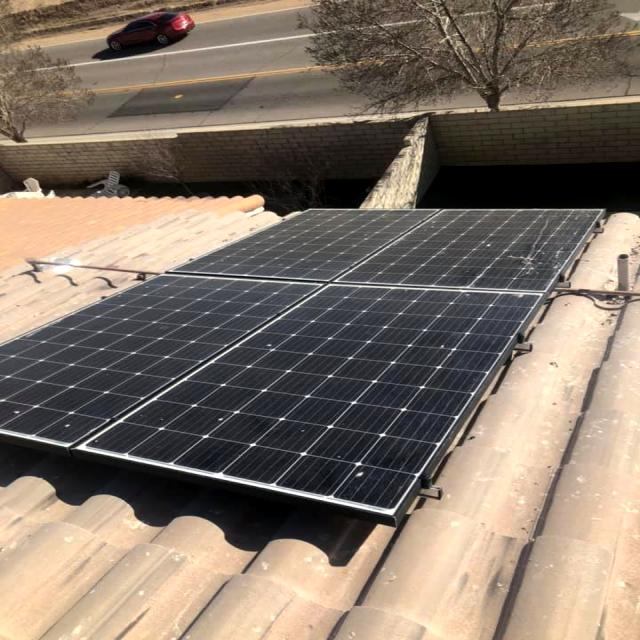dust: (324, 452, 422, 507), (484, 220, 574, 279)
